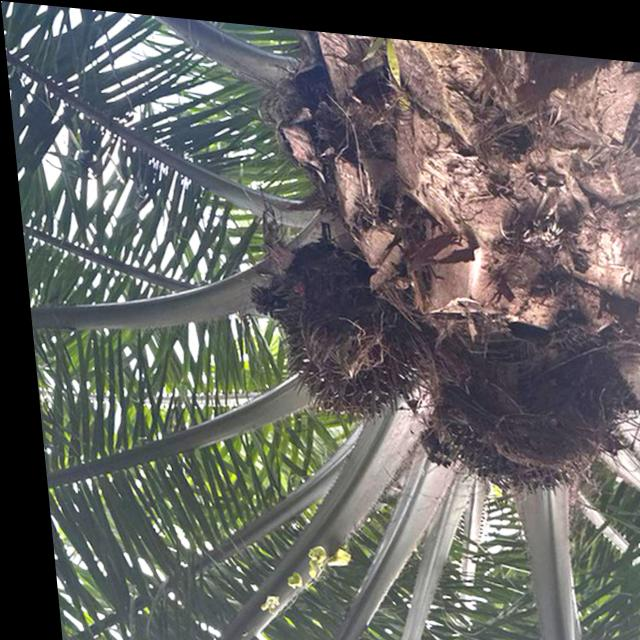ripe: (251, 214, 440, 439)
